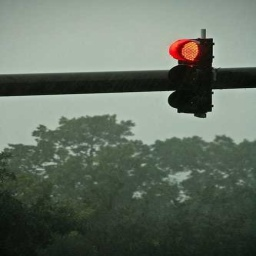traffic light: (166, 38, 215, 113)
